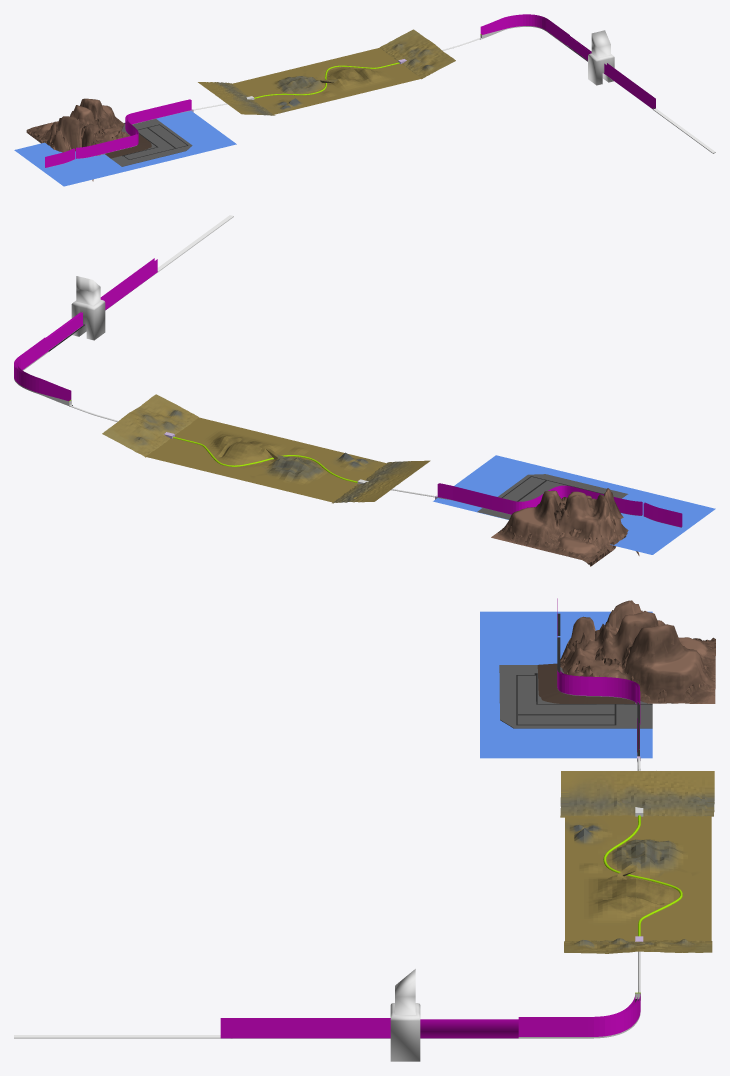
Rendered from final-con modifiers aplicados+isla-emp.glb.
3 renders of one model, top to bottom at view 1: azimuth 30°, elevation 25°; view 2: azimuth 150°, elevation 25°; view 3: azimuth 270°, elevation 25°, orthographic. The views are drawn at different scales.
Visible parts, largest first — view 1: underwaterfloor, Water, Tunel subaquatica, Montanya isla, Pendiente agua A, Ground, Pendiente agua B, Main Tower, Carretera, carretera.002; view 2: underwaterfloor, Montanya isla, Water, Tunel subaquatica, Pendiente agua A, Pendiente agua B, Ground, Main Tower, Carretera, carretera.002; view 3: underwaterfloor, Water, Montanya isla, Tunel subaquatica, Pendiente agua B, Carretera, Ground, Main Tower, Pendiente agua A.
Boxes of the visible parts, bbox=[...] form: underwaterfloor: bbox=[232, 47, 421, 114]; Water: bbox=[14, 111, 236, 186]; Tunel subaquatica: bbox=[76, 14, 569, 158]; Montanya isla: bbox=[26, 98, 130, 181]; Pendiente agua A: bbox=[380, 29, 455, 79]; Ground: bbox=[105, 119, 192, 166]; Pendiente agua B: bbox=[198, 82, 275, 115]; Main Tower: bbox=[588, 30, 614, 85]; Carretera: bbox=[568, 36, 655, 109]; carretera.002: bbox=[45, 148, 75, 167]; underwaterfloor: bbox=[145, 417, 386, 502]; Montanya isla: bbox=[491, 488, 639, 566]; Water: bbox=[433, 455, 715, 554]; Tunel subaquatica: bbox=[14, 337, 642, 515]; Pendiente agua A: bbox=[102, 394, 198, 457]; Pendiente agua B: bbox=[332, 460, 430, 503]; Ground: bbox=[477, 474, 627, 519]; Main Tower: bbox=[71, 276, 105, 340]; Carretera: bbox=[45, 258, 157, 351]; carretera.002: bbox=[643, 502, 682, 527]; underwaterfloor: bbox=[565, 815, 711, 941]; Water: bbox=[480, 611, 652, 758]; Montanya isla: bbox=[560, 600, 715, 703]; Tunel subaquatica: bbox=[518, 620, 682, 1038]; Pendiente agua B: bbox=[560, 771, 714, 817]; Carretera: bbox=[220, 1018, 518, 1038]; Ground: bbox=[499, 665, 652, 728]; Main Tower: bbox=[390, 969, 420, 1061]; Pendiente agua A: bbox=[564, 938, 712, 953].
Bounding box in the file's own units: 5283 × 604 × 3534.
19 materials, 4 textured.
